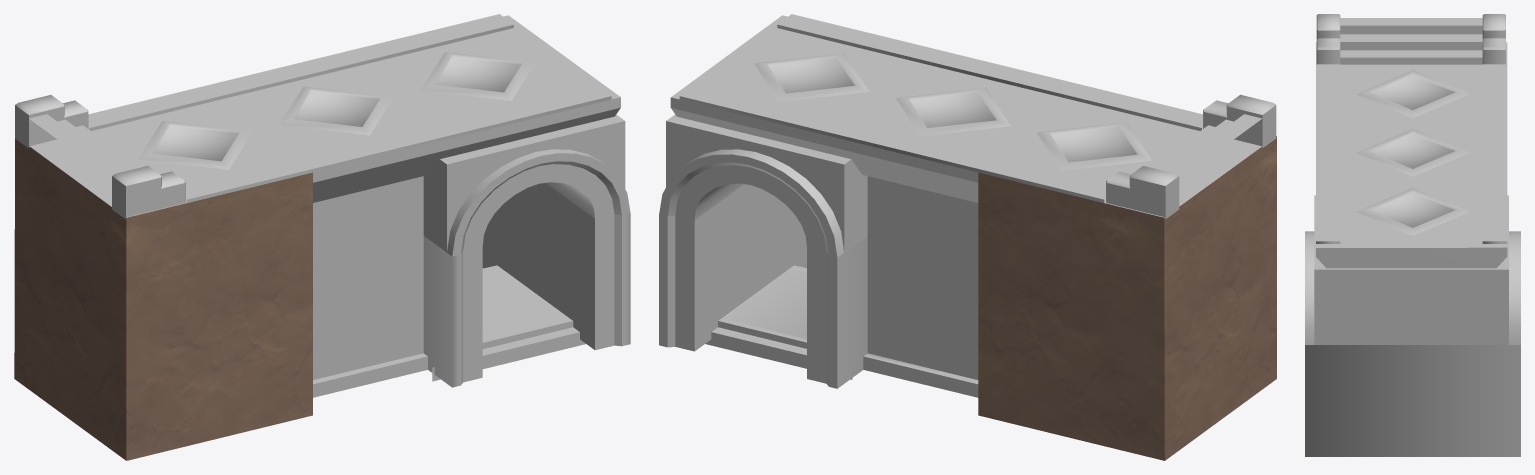
File: pop_StageBridgeSentinel.fbx
3 renders of one model, left to right at view 1: azimuth 30°, elevation 25°; view 2: azimuth 150°, elevation 25°; view 3: azimuth 270°, elevation 25°, orthographic. The views are drawn at different scales.
Visible parts, largest first — view 1: pop_StageBridgeSentinel; view 2: pop_StageBridgeSentinel; view 3: pop_StageBridgeSentinel.
Boxes of the visible parts, x1=… form: pop_StageBridgeSentinel: x1=14, y1=14, x2=630, y2=460; pop_StageBridgeSentinel: x1=659, y1=14, x2=1276, y2=460; pop_StageBridgeSentinel: x1=1305, y1=14, x2=1520, y2=456.
Size of what is drawn, in the model's own units: 1205 by 655 by 530.
